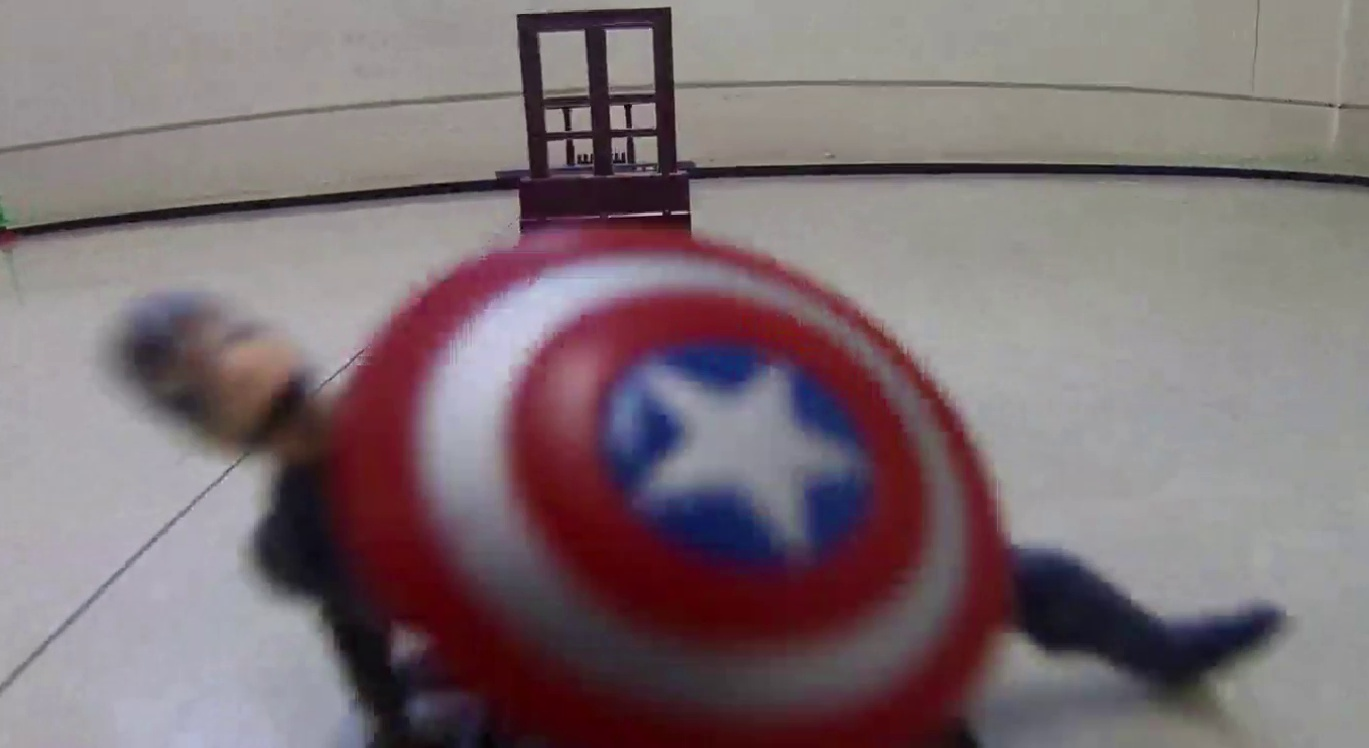people: (127, 215, 1300, 748)
